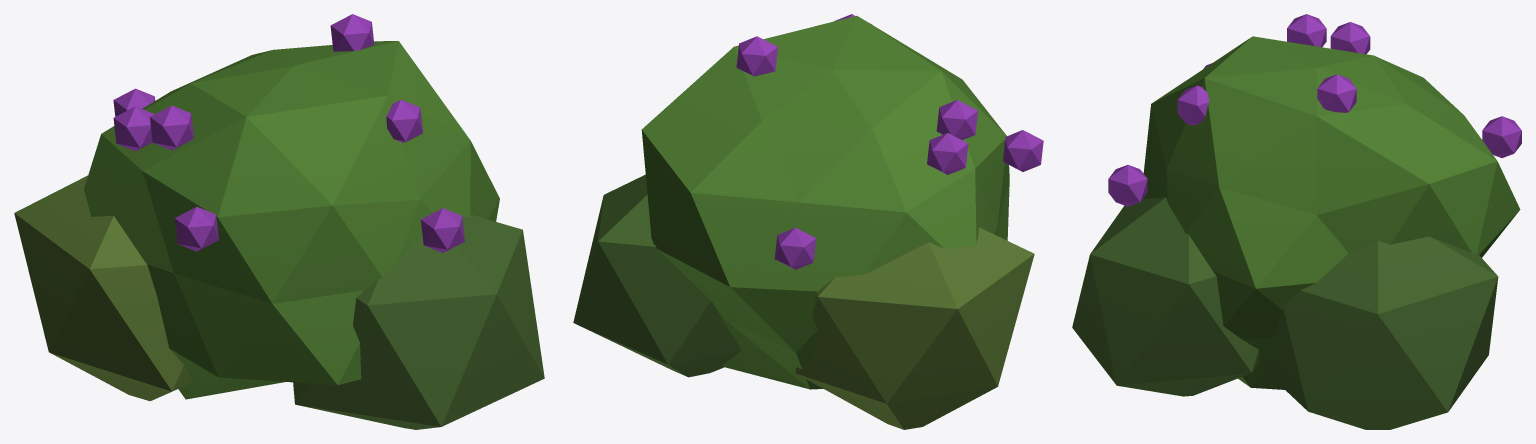
The model's file is e_bush_a.glb.
3 views of the same model, side by side, from view 1: azimuth 30°, elevation 25°; view 2: azimuth 150°, elevation 25°; view 3: azimuth 270°, elevation 25° (orthographic). The views are drawn at different scales.
Parts seen in each view (by area): view 1: e_bush_a; view 2: e_bush_a; view 3: e_bush_a.
Part boxes in pixels (x1,y1,x2,y2): e_bush_a: [14, 14, 544, 429]; e_bush_a: [573, 14, 1043, 429]; e_bush_a: [1072, 14, 1521, 429].
Size of the model in its own units: 0.9792 by 0.7761 by 0.967.
